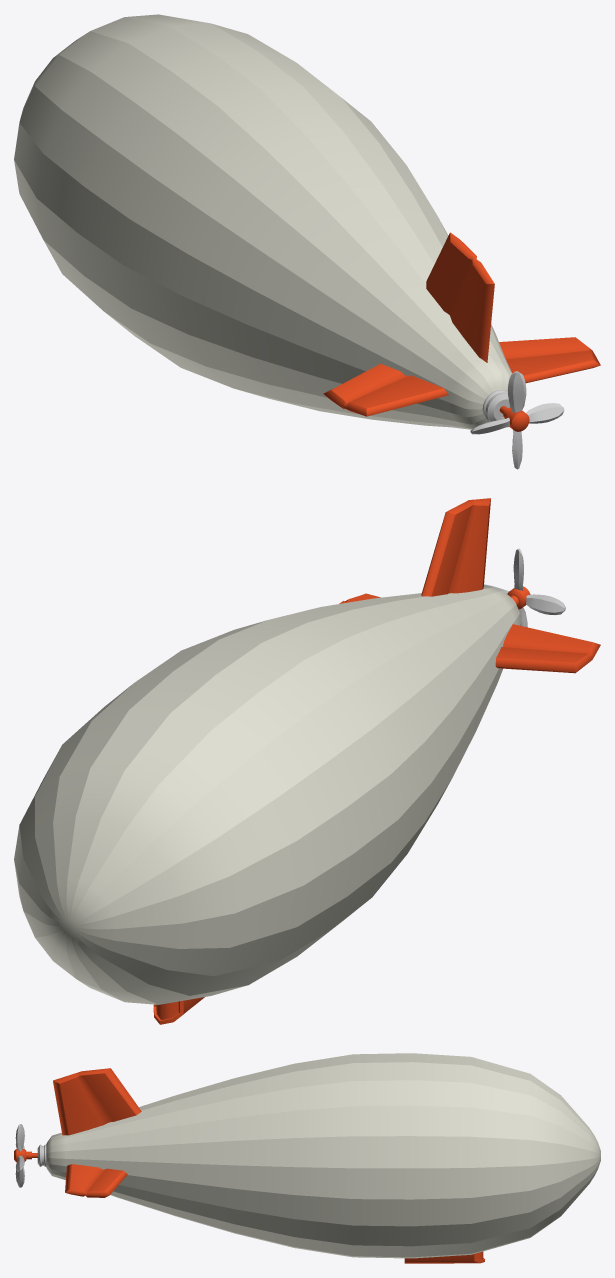
File: zeppelin.fbx
The picture shows the model from 3 angles, top to bottom: view 1: azimuth 30°, elevation 25°; view 2: azimuth 150°, elevation 25°; view 3: azimuth 270°, elevation 25°; orthographic projection. The views are drawn at different scales.
Parts seen in each view (by area): view 1: pCube14_aiStandardSurface1_0, pCube14_aiStandardSurface6_0, propeler, pCube14_aiStandardSurface3_0; view 2: pCube14_aiStandardSurface1_0, pCube14_aiStandardSurface6_0, propeler, pCube14_aiStandardSurface2_0; view 3: pCube14_aiStandardSurface1_0, pCube14_aiStandardSurface6_0, pCube14_aiStandardSurface2_0, propeler.
Boxes of the visible parts, x1,y1,x2,y2 form: pCube14_aiStandardSurface1_0: [14, 14, 512, 429]; pCube14_aiStandardSurface6_0: [323, 232, 600, 416]; propeler: [470, 371, 564, 469]; pCube14_aiStandardSurface3_0: [482, 390, 510, 421]; pCube14_aiStandardSurface1_0: [14, 586, 521, 1004]; pCube14_aiStandardSurface6_0: [339, 498, 600, 673]; propeler: [484, 548, 565, 627]; pCube14_aiStandardSurface2_0: [153, 997, 204, 1024]; pCube14_aiStandardSurface1_0: [46, 1053, 600, 1258]; pCube14_aiStandardSurface6_0: [53, 1068, 141, 1197]; pCube14_aiStandardSurface2_0: [404, 1251, 484, 1263]; propeler: [15, 1124, 24, 1187].
Size of the model in its own units: 921 by 991 by 2614.
